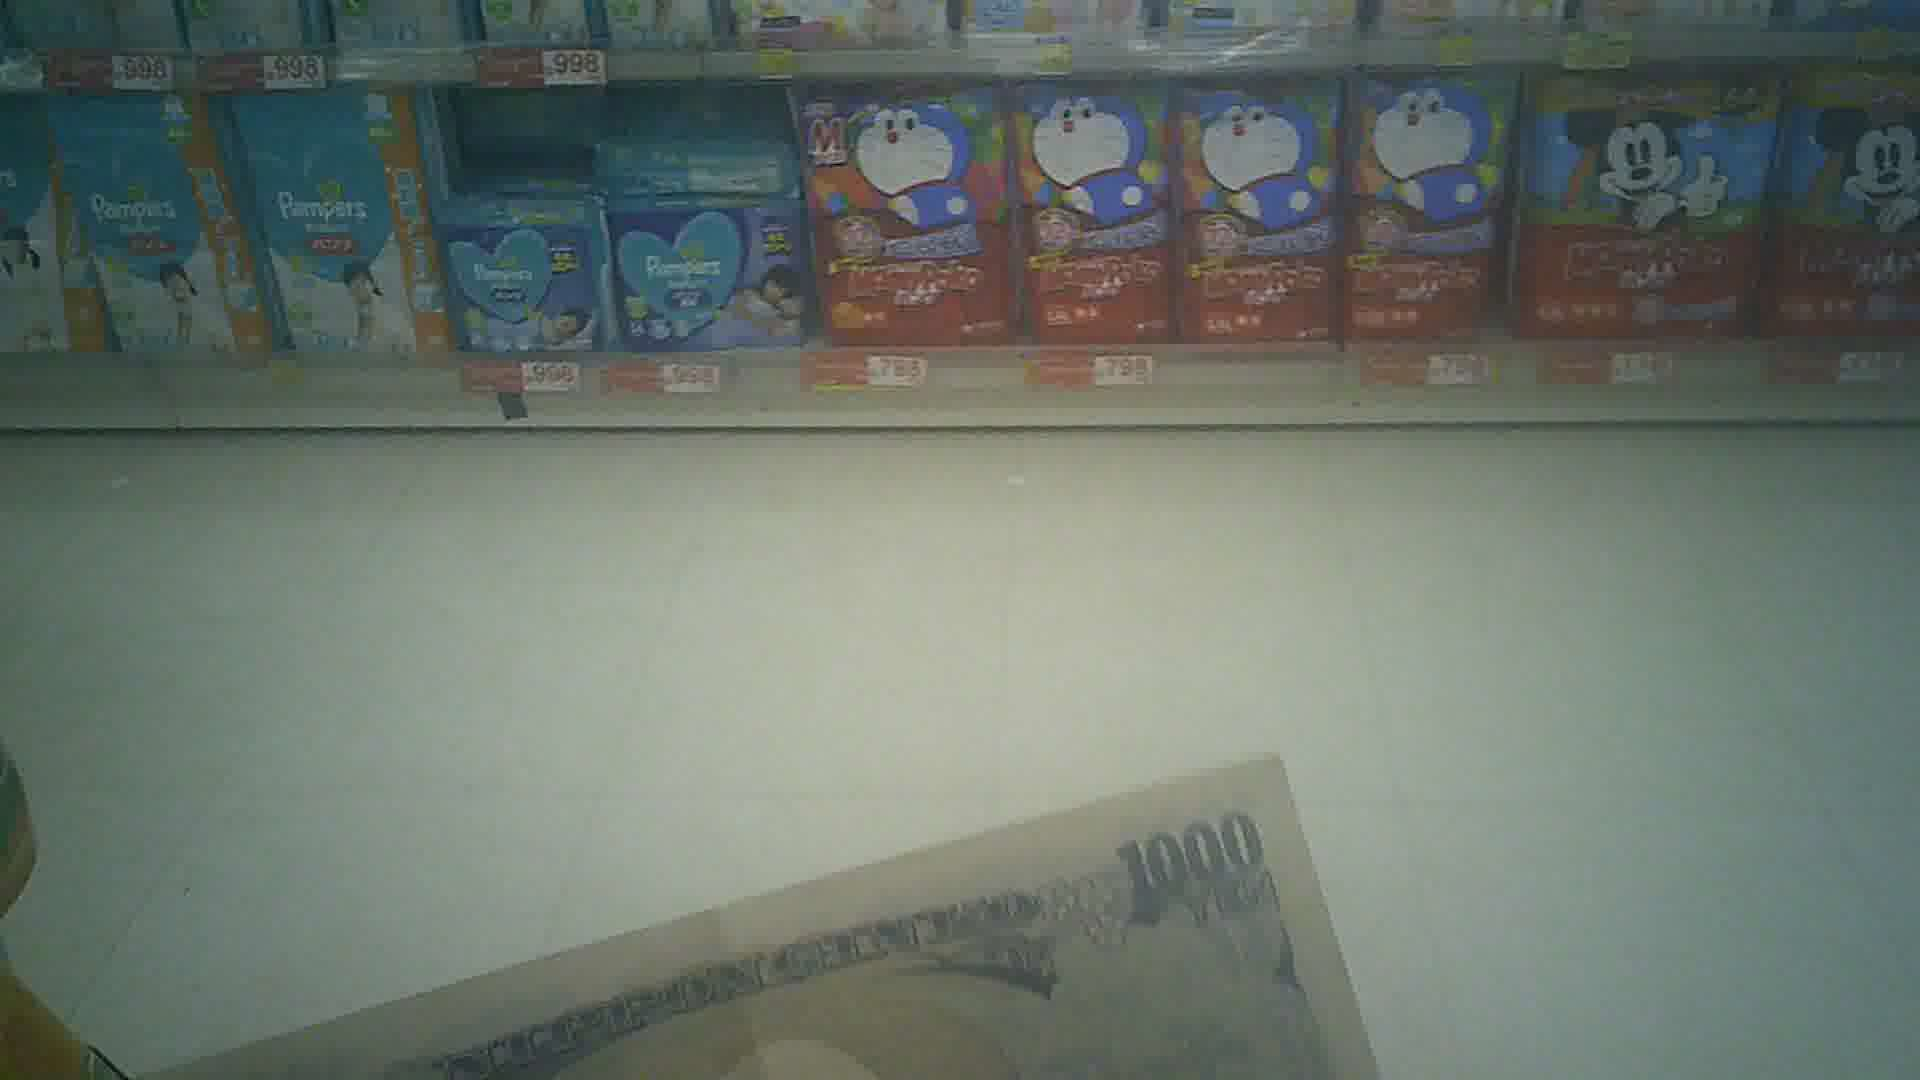1,000 Yen: (185, 760, 1381, 1079)
